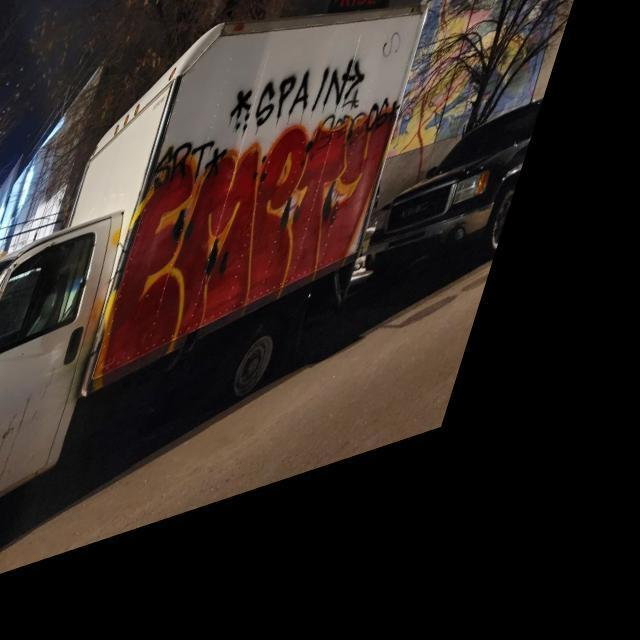-: (114, 108, 428, 396), (238, 50, 390, 177), (160, 134, 248, 214)
